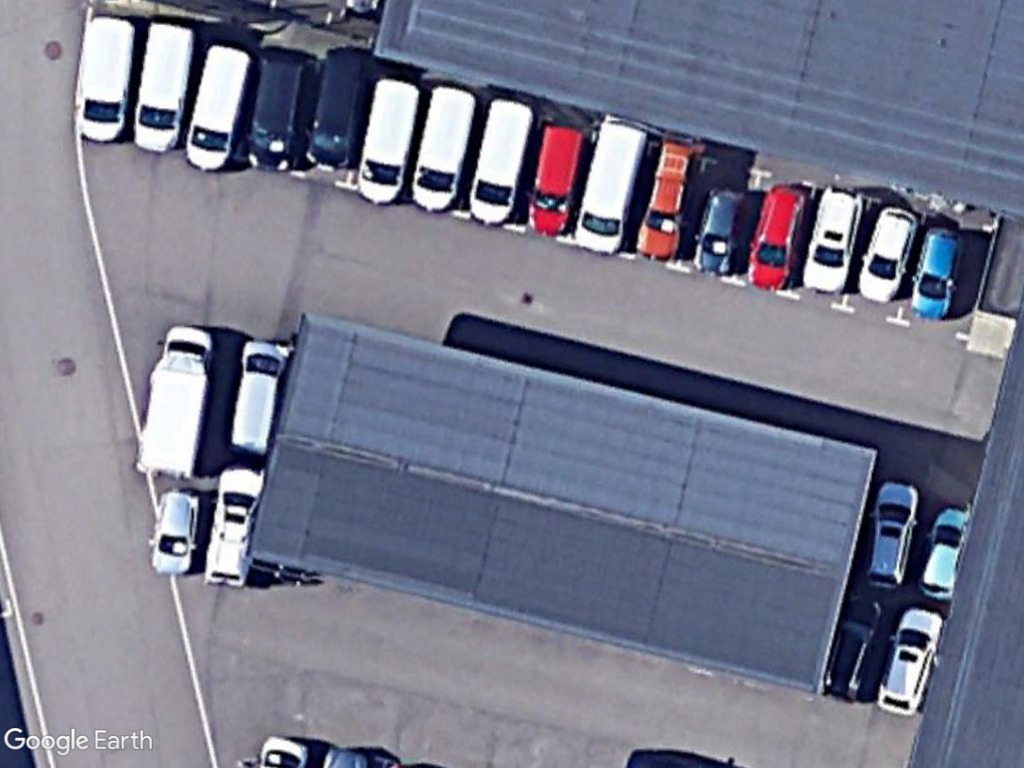car: (872, 604, 946, 714), (743, 182, 815, 295), (800, 186, 868, 298), (853, 203, 925, 306), (862, 479, 924, 591), (905, 221, 969, 320), (689, 181, 751, 278), (143, 485, 205, 579)
van: (129, 319, 220, 482), (568, 115, 652, 259), (179, 38, 258, 179), (459, 95, 537, 230), (126, 19, 200, 155), (408, 81, 481, 218), (351, 74, 423, 209), (75, 12, 140, 147), (223, 333, 294, 456), (524, 120, 589, 240)
